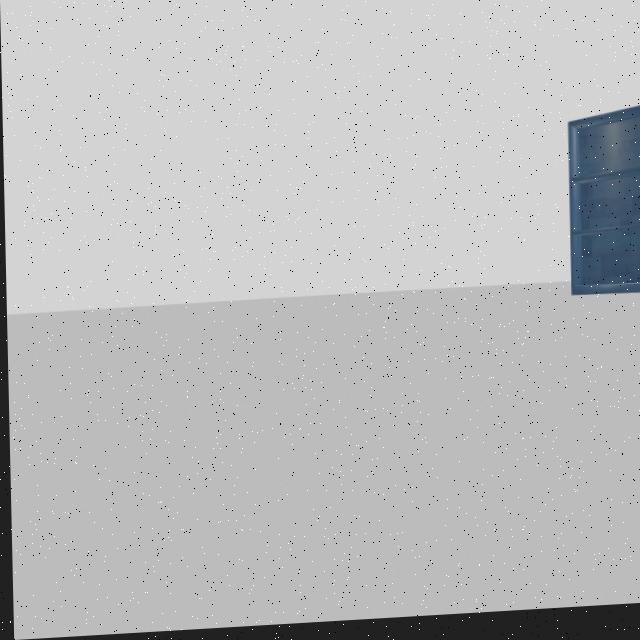shelf: (560, 99, 640, 325)
